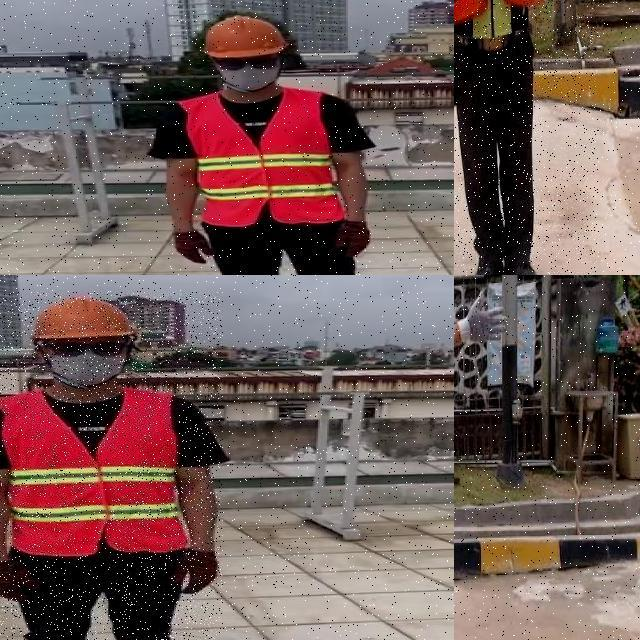boots: (466, 250, 504, 275), (504, 251, 540, 275)
helmet: (25, 293, 138, 344), (202, 12, 294, 58)
vest: (0, 392, 187, 553), (182, 91, 344, 225)
